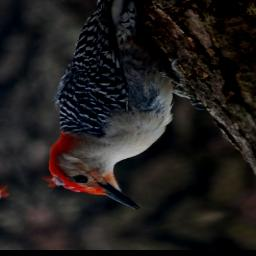Woodpecker: (0, 0, 246, 225)
